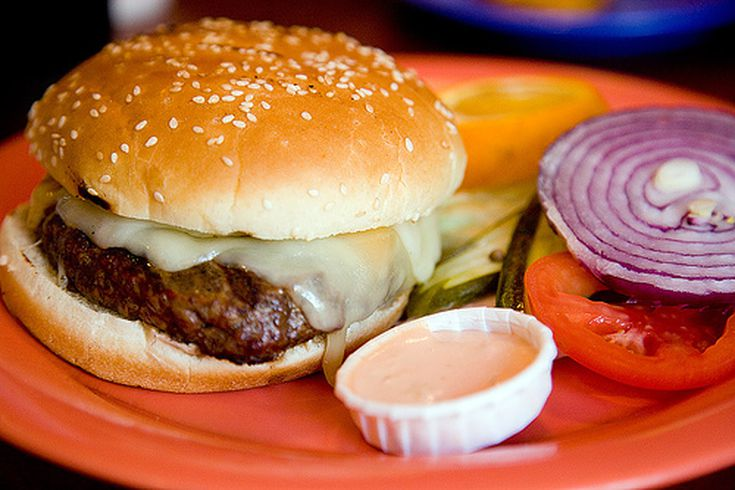hamburger: (9, 23, 475, 396)
